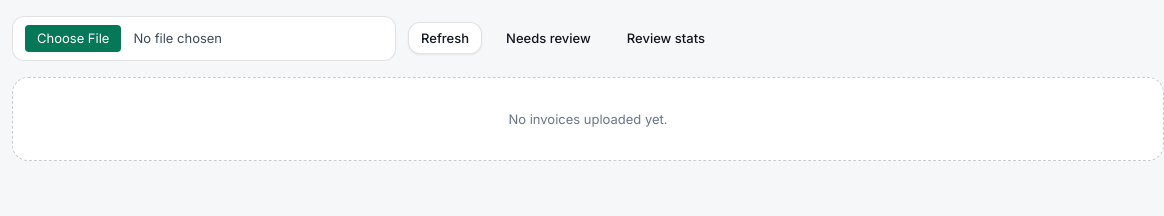
Test: DocumentManager cursor paging › sends cursor from last page when Load more clicked
# Enter review mode
Step 1. Click the button "Needs review" → (548, 38), box [494, 22, 603, 54]
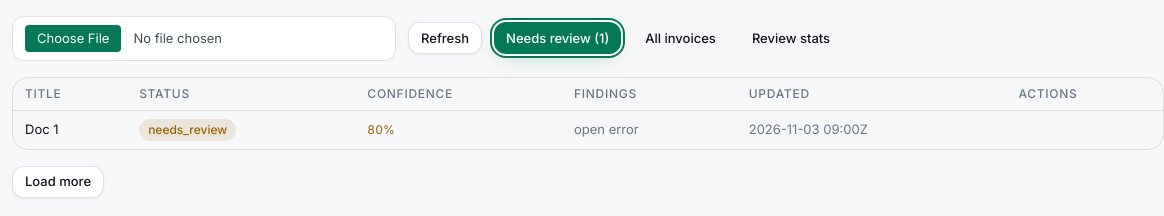
Now the button "Doc 1" is shown, box [25, 120, 59, 139]
# Click Load more
Step 2. Click the button "Load more" → (58, 182), box [12, 166, 104, 198]
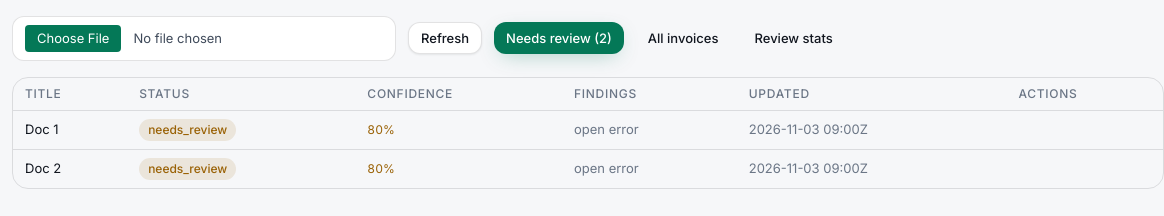
Now the button "Doc 2" is shown, box [25, 159, 61, 178]
